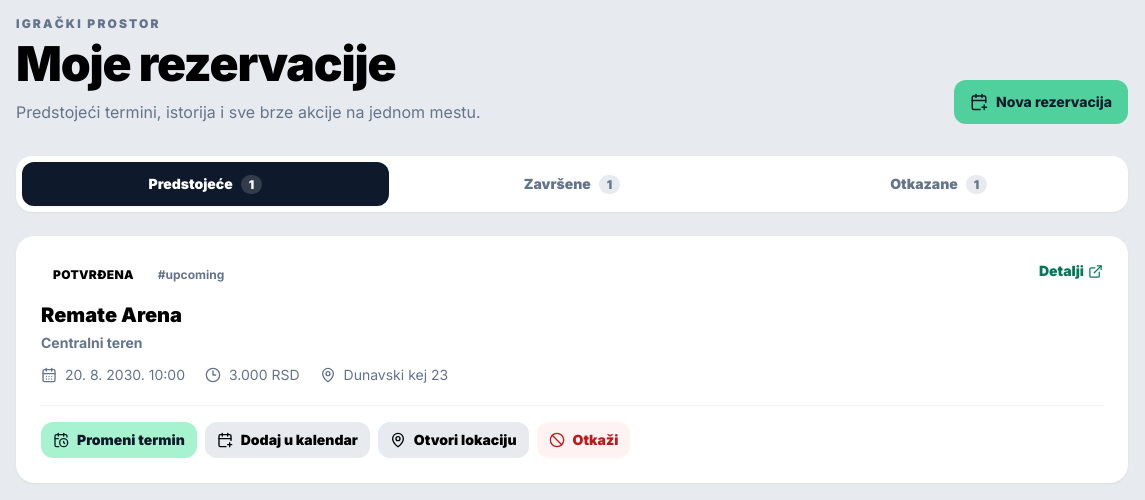
Test: MyBookingsPage › separates upcoming, completed and cancelled bookings
Expected: the text "#upcoming" is shown, 158,267 -> 224,283
Expected: the link "Promeni termin" is shown, 41,422 -> 197,458
Click the tab "Završene1": (572, 184) 389,162 -> 755,206
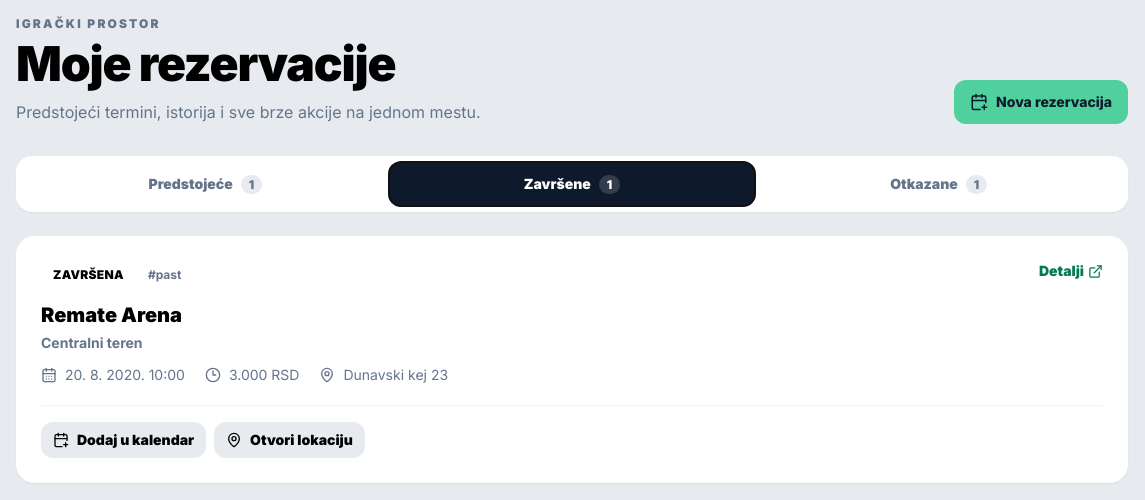
Result: the text "#past" is shown at 148,267 -> 182,283
Click the tab "Otkazane1": (939, 184) 755,162 -> 1122,206
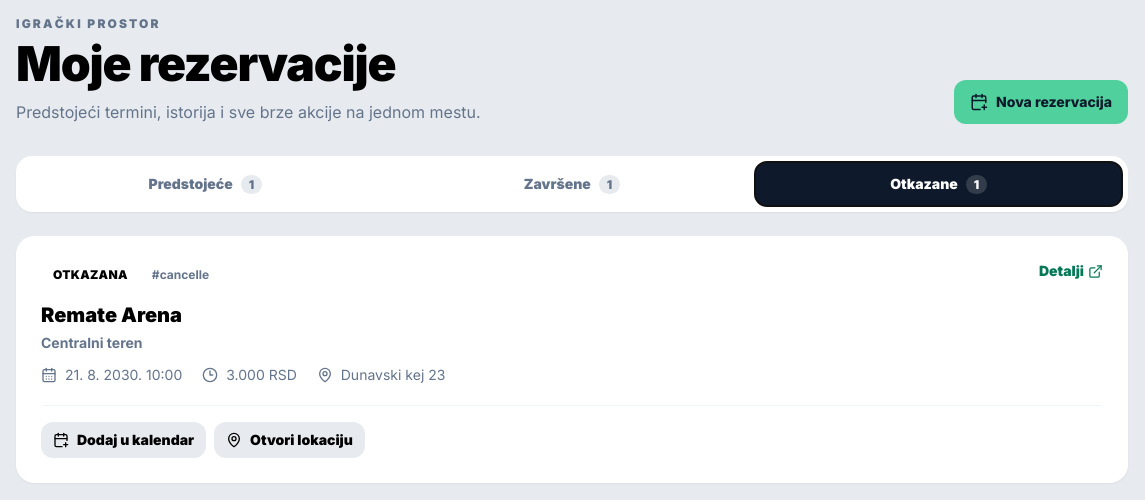
Result: the text "#cancelle" is shown at 152,267 -> 209,283
